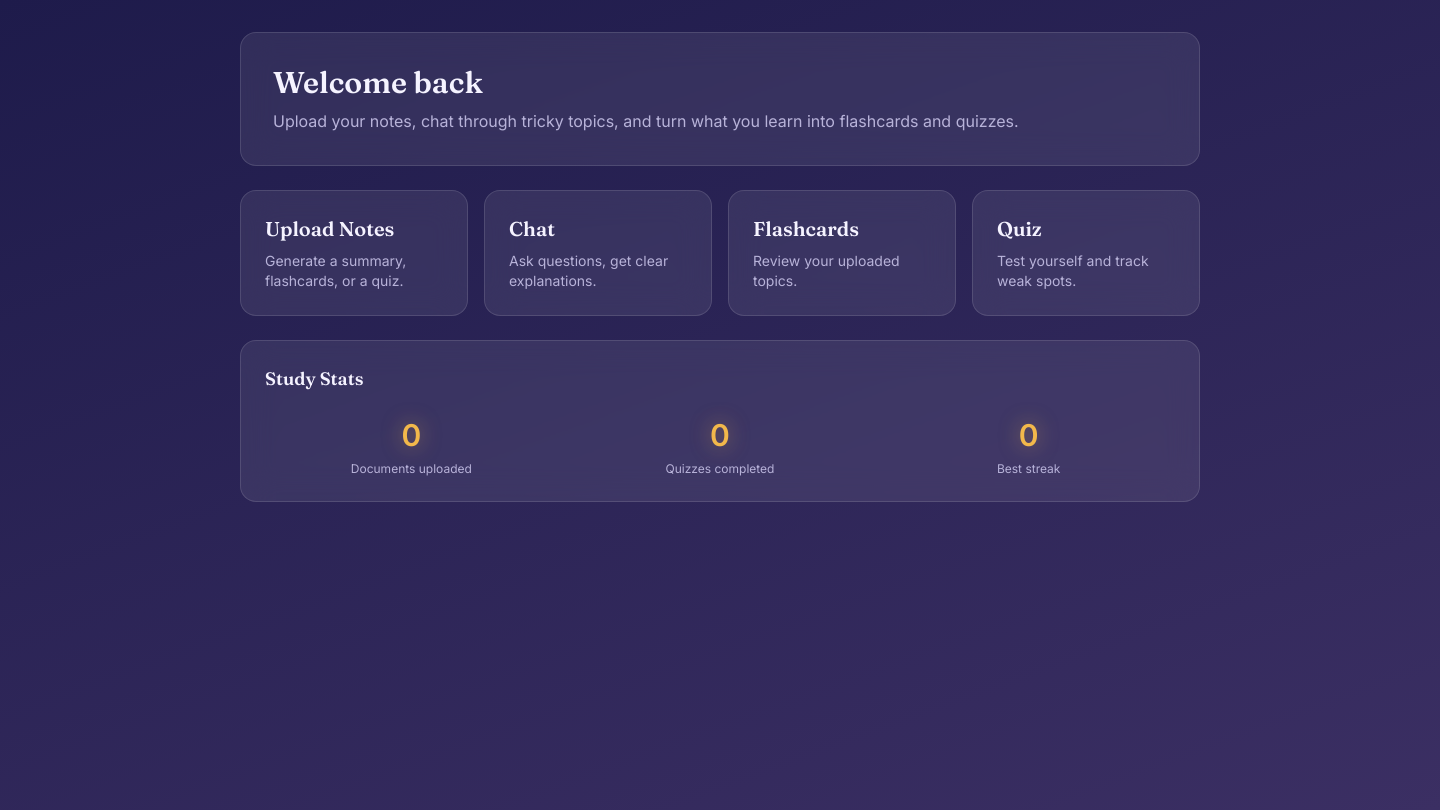
Scenario: HomePage › shows a notice when Flashcards is clicked with no document uploaded
Click the heading "Flashcards" at (806, 228), box left=753, top=216, right=859, bottom=241
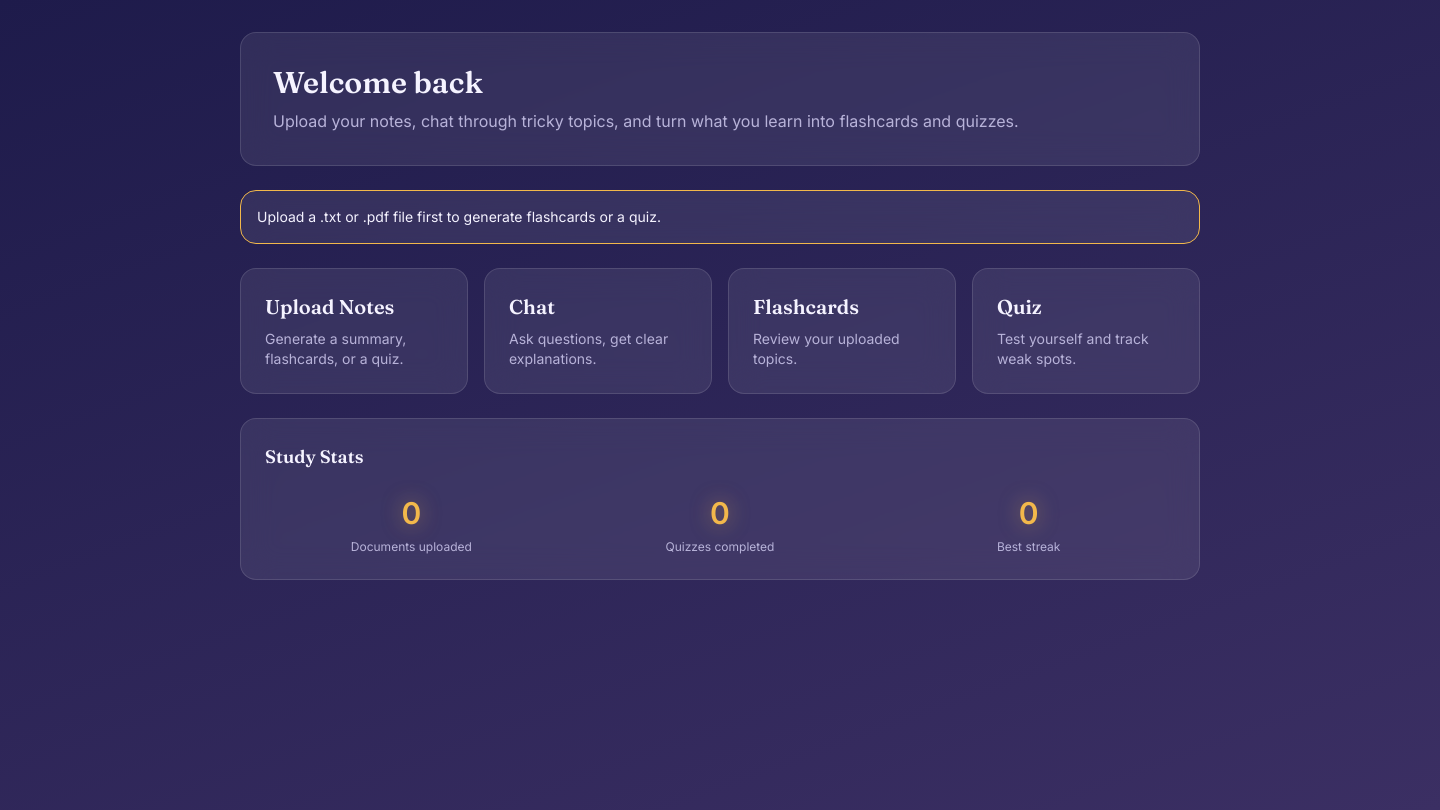
Result: the text "Upload a .txt or .pdf file first" is shown at left=257, top=208, right=661, bottom=225
